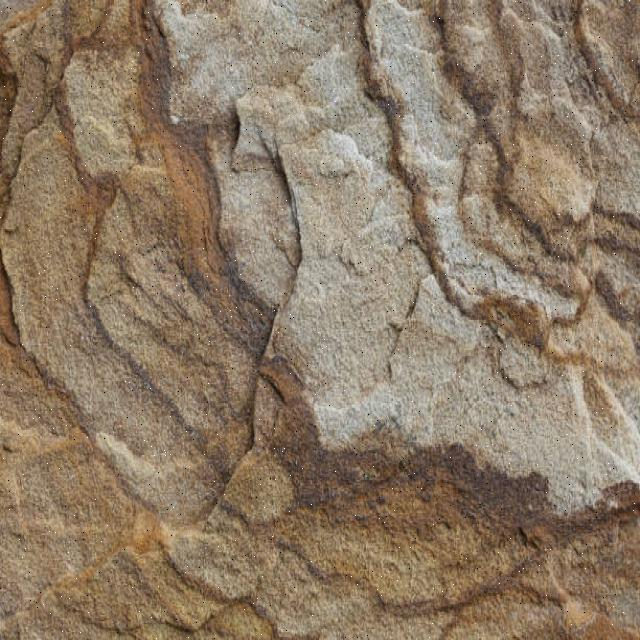Sedimentary: (1, 1, 640, 637)
